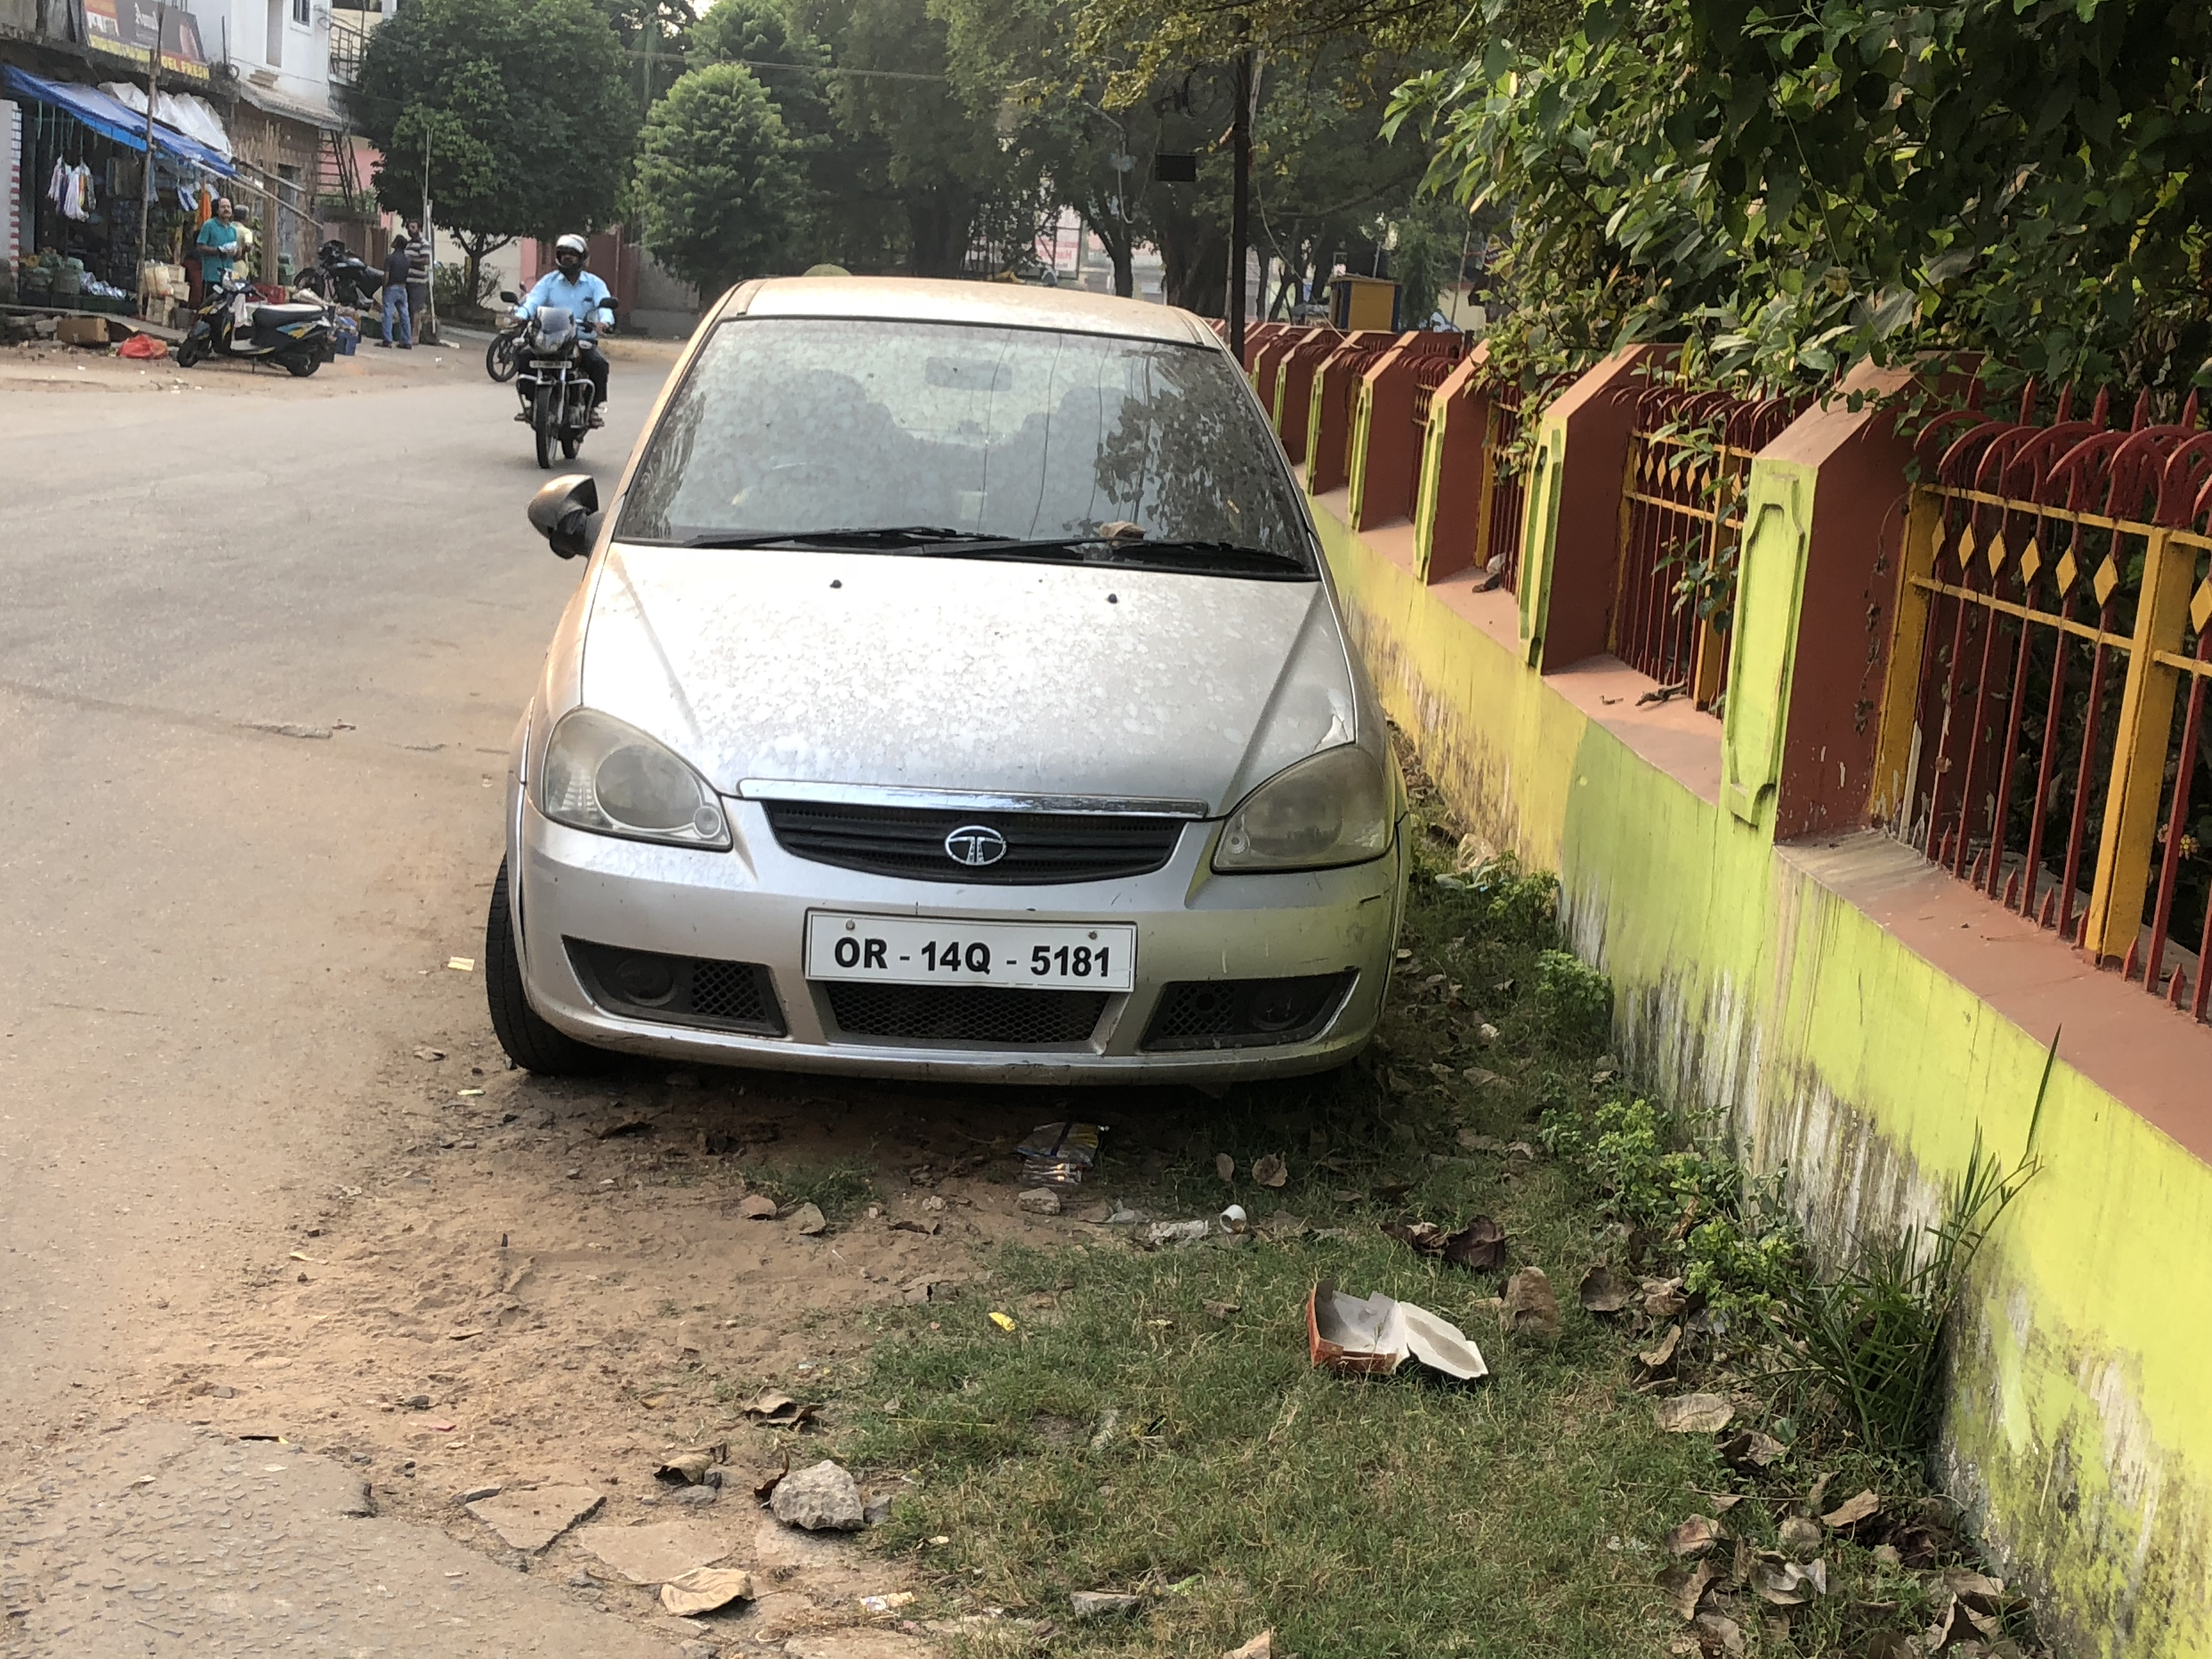licenseplate: (795, 903, 1143, 1002)
